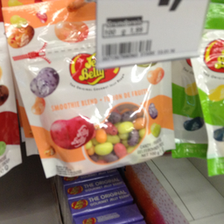candy: (4, 3, 170, 175), (179, 2, 224, 168)
